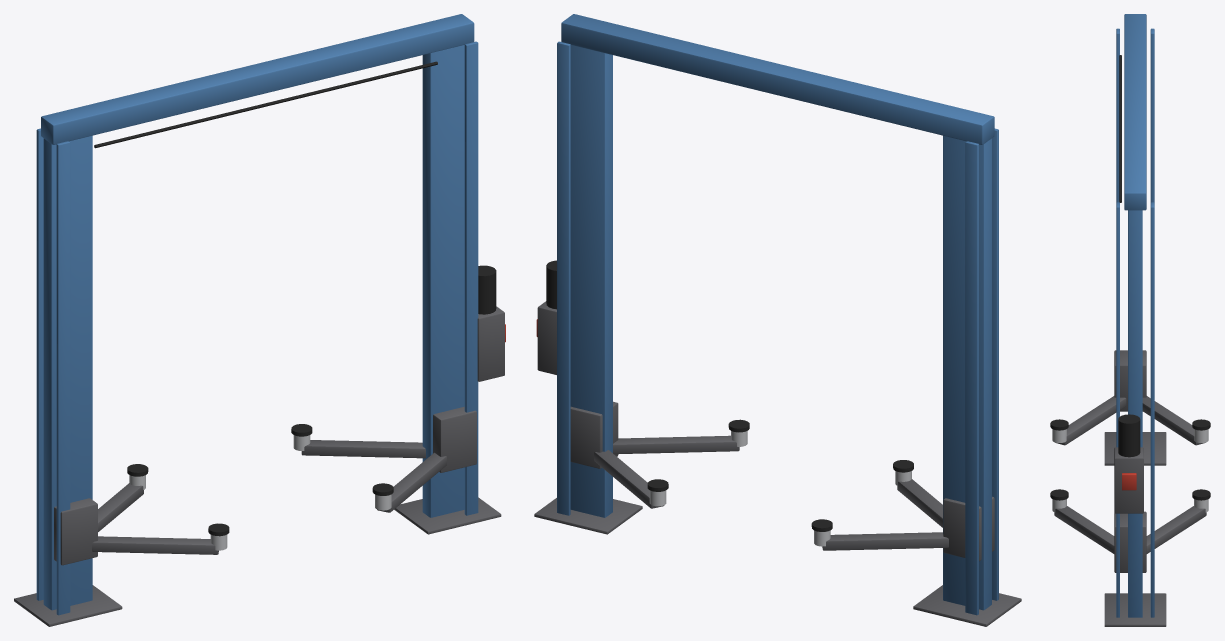
The model's file is g_lift.fbx.
3 views of the same model, side by side, from view 1: azimuth 30°, elevation 25°; view 2: azimuth 150°, elevation 25°; view 3: azimuth 270°, elevation 25° (orthographic). The views are drawn at different scales.
Parts seen in each view (by area): view 1: g_lift_blue, g_lift_darksteel, g_lift_black, g_lift_rubber, g_lift_steel; view 2: g_lift_blue, g_lift_darksteel, g_lift_rubber, g_lift_steel; view 3: g_lift_blue, g_lift_darksteel, g_lift_black, g_lift_rubber, g_lift_steel, g_lift_red.
Part boxes in pixels (<box>): g_lift_blue: <box>36,14,478,615</box>; g_lift_darksteel: <box>14,306,504,626</box>; g_lift_black: <box>94,61,496,314</box>; g_lift_rubber: <box>127,424,393,536</box>; g_lift_steel: <box>129,435,391,550</box>; g_lift_blue: <box>557,14,998,615</box>; g_lift_darksteel: <box>534,301,1021,626</box>; g_lift_rubber: <box>647,419,913,531</box>; g_lift_steel: <box>649,431,911,546</box>; g_lift_blue: <box>1116,14,1154,617</box>; g_lift_darksteel: <box>1054,350,1206,626</box>; g_lift_black: <box>1118,55,1140,457</box>; g_lift_rubber: <box>1050,419,1210,500</box>; g_lift_steel: <box>1052,429,1208,512</box>; g_lift_red: <box>1122,473,1136,490</box>.
Size of the model in its own units: 3.82 by 3.83 by 1.3.
